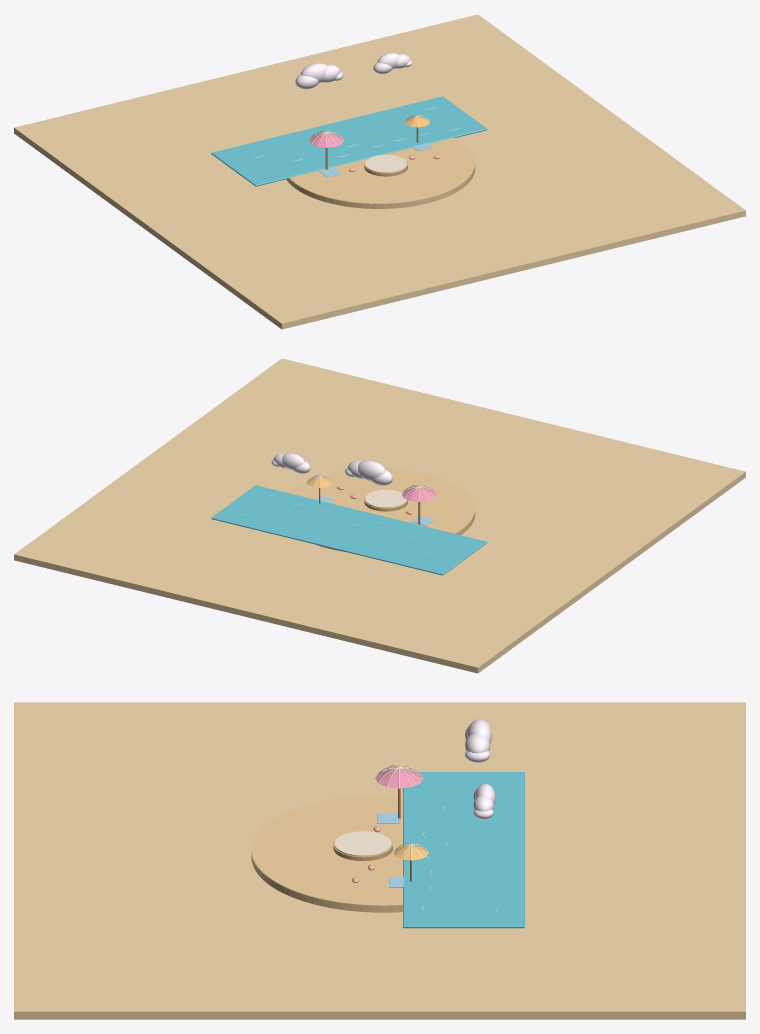
Rendered from praia.glb.
3 renders of one model, top to bottom at view 1: azimuth 30°, elevation 25°; view 2: azimuth 150°, elevation 25°; view 3: azimuth 270°, elevation 25°, orthographic. The views are drawn at different scales.
Parts seen in each view (by area): view 1: Horizon floor, Water, Diorama piping, Diorama base, Look pedestal; view 2: Horizon floor, Water, Diorama piping, Look pedestal; view 3: Horizon floor, Water, Diorama piping, Look pedestal, Diorama base, Parasol canopy.
Boxes of the visible parts, x1,y1,x2,y2 form: Horizon floor: [14, 14, 745, 329]; Water: [211, 96, 487, 186]; Diorama piping: [289, 137, 474, 203]; Diorama base: [286, 158, 475, 208]; Look pedestal: [365, 154, 406, 173]; Horizon floor: [14, 358, 745, 673]; Water: [211, 485, 487, 575]; Diorama piping: [290, 468, 474, 533]; Look pedestal: [365, 489, 406, 508]; Horizon floor: [14, 702, 745, 1019]; Water: [403, 772, 524, 928]; Diorama piping: [251, 794, 402, 905]; Look pedestal: [334, 831, 391, 856]; Diorama base: [251, 842, 402, 912]; Parasol canopy: [375, 768, 422, 788].
Bounding box in the file's own units: 24 × 4.49 × 24.
